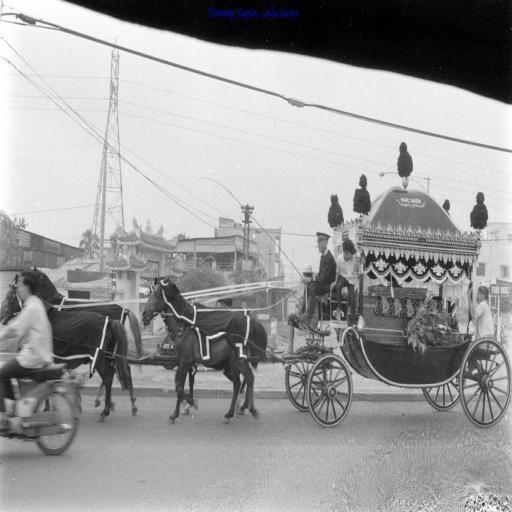horse: (0, 274, 139, 422), (140, 275, 269, 424), (26, 264, 143, 408)
